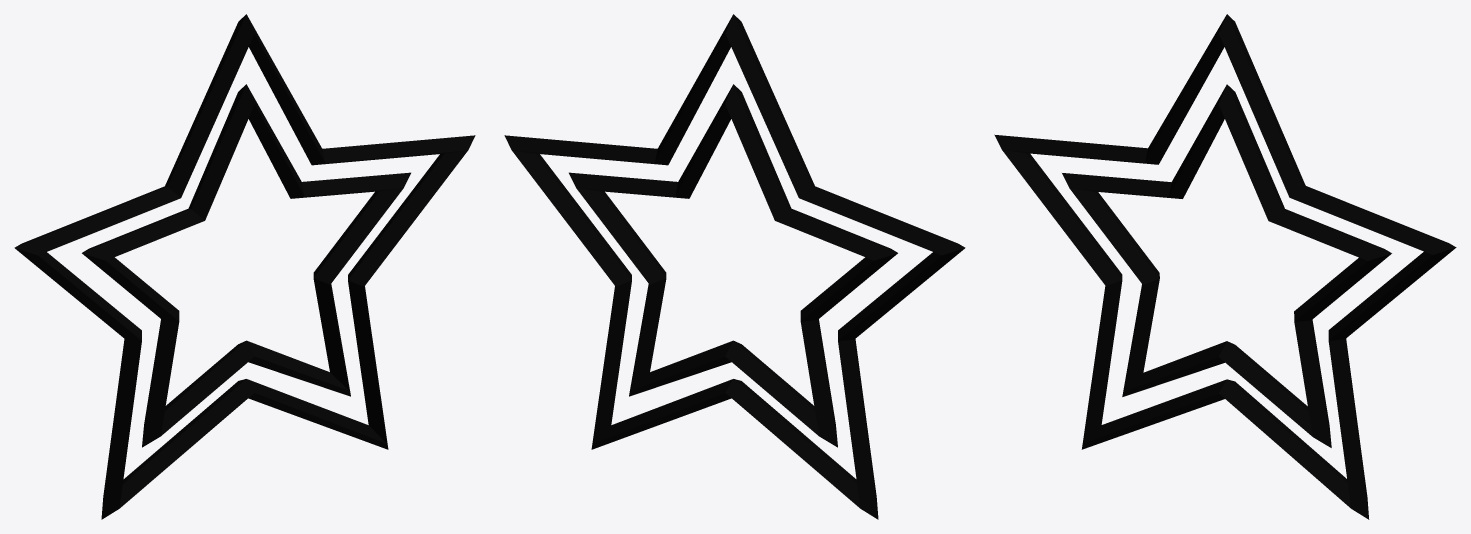
File: SM_Prop_Casino_Neon_03.fbx
The picture shows the model from 3 angles, left to right: view 1: azimuth 30°, elevation 25°; view 2: azimuth 150°, elevation 25°; view 3: azimuth 330°, elevation 25°; orthographic projection.
Parts seen in each view (by area): view 1: SM_Prop_Casino_Neon_03; view 2: SM_Prop_Casino_Neon_03; view 3: SM_Prop_Casino_Neon_03.
Boxes of the visible parts, x1,y1,x2,y2 form: SM_Prop_Casino_Neon_03: [14, 14, 475, 519]; SM_Prop_Casino_Neon_03: [504, 14, 965, 519]; SM_Prop_Casino_Neon_03: [994, 14, 1456, 519].
Bounding box in the file's own units: 112 × 110 × 7.04.
